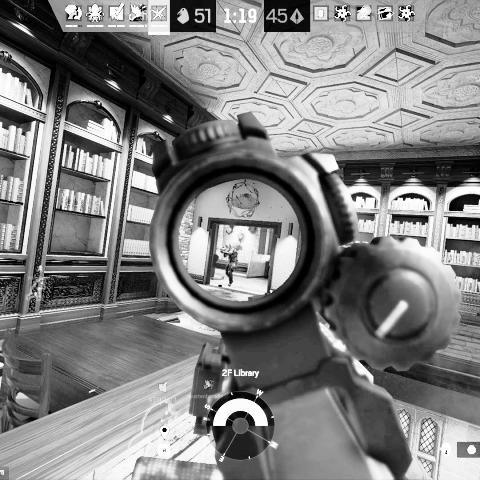Character: (218, 242, 240, 288)
Friend_label: (186, 378, 228, 399), (148, 380, 178, 404)
Head: (225, 242, 231, 250)
